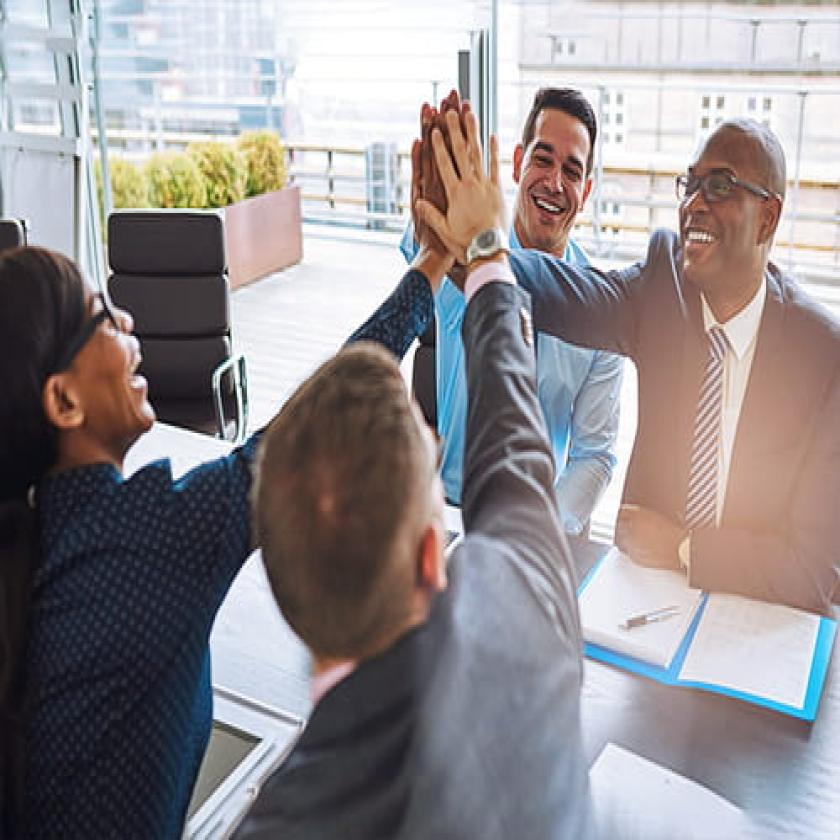Sin_casco: (250, 334, 450, 642), (0, 241, 163, 504), (668, 110, 792, 320), (508, 75, 602, 264)
